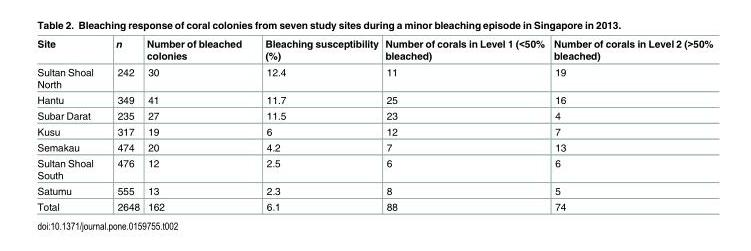table: (36, 37, 712, 211)
table column: (381, 37, 548, 211), (548, 37, 712, 211), (252, 37, 381, 211), (142, 37, 252, 211), (36, 37, 104, 211), (104, 37, 142, 211)
table column header: (36, 37, 712, 63)
table row: (36, 63, 712, 91), (36, 154, 712, 182), (36, 37, 712, 63), (36, 91, 712, 107), (36, 107, 712, 123), (36, 138, 712, 154), (36, 182, 712, 198), (36, 123, 712, 138), (36, 198, 712, 211)
